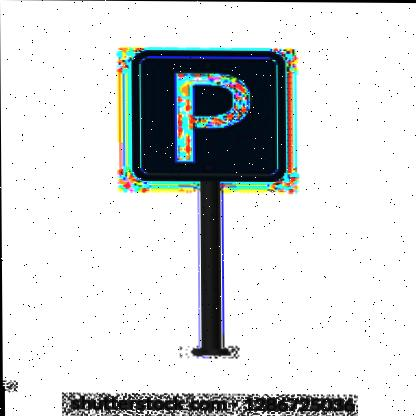Parking: (135, 49, 297, 182)
